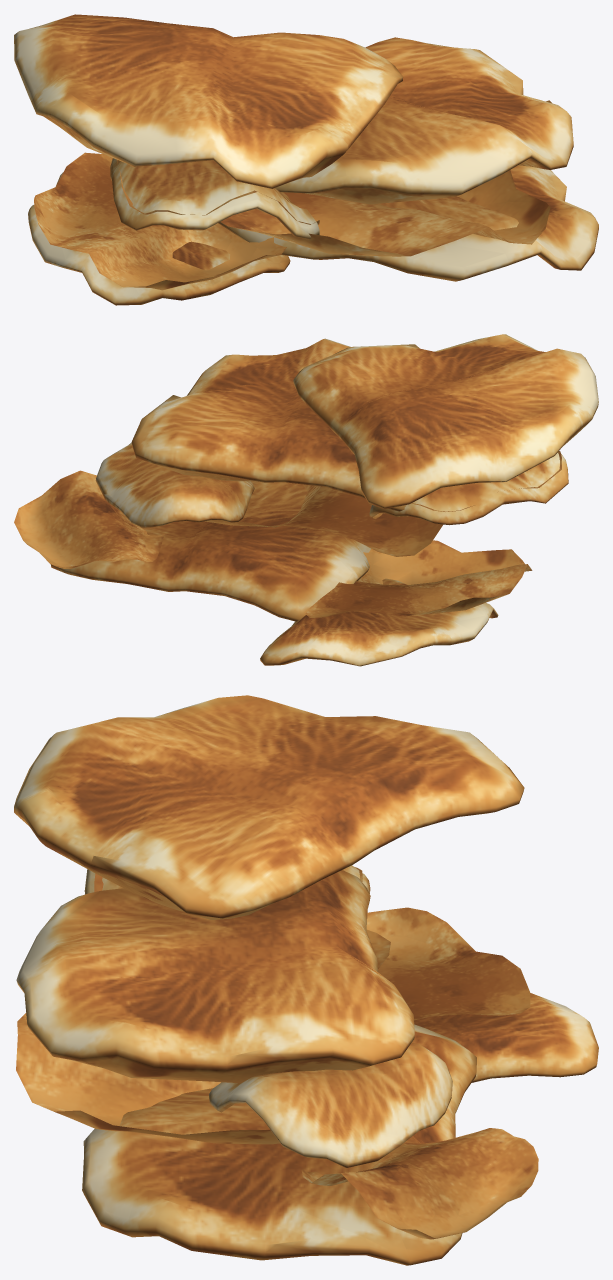
File: glade_shelf_fungus.glb
3 views of the same model, one above another, from view 1: azimuth 30°, elevation 25°; view 2: azimuth 150°, elevation 25°; view 3: azimuth 270°, elevation 25° (orthographic). The views are drawn at different scales.
Parts seen in each view (by area): view 1: glade_shelf_fungus; view 2: glade_shelf_fungus; view 3: glade_shelf_fungus.
Part boxes in pixels (x1=…): glade_shelf_fungus: x1=14, y1=14, x2=598, y2=305; glade_shelf_fungus: x1=14, y1=334, x2=598, y2=666; glade_shelf_fungus: x1=14, y1=695, x2=598, y2=1265.
Bounding box in the file's own units: 7.03 × 3 × 5.37.
1 material, 1 textured.
